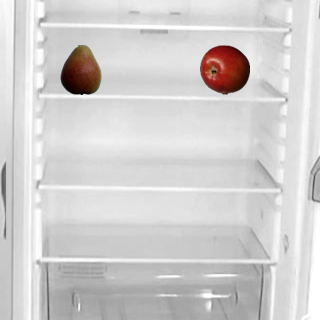Apple Braeburn: (199, 44, 249, 94)
Pear Forelle: (55, 44, 105, 94)
